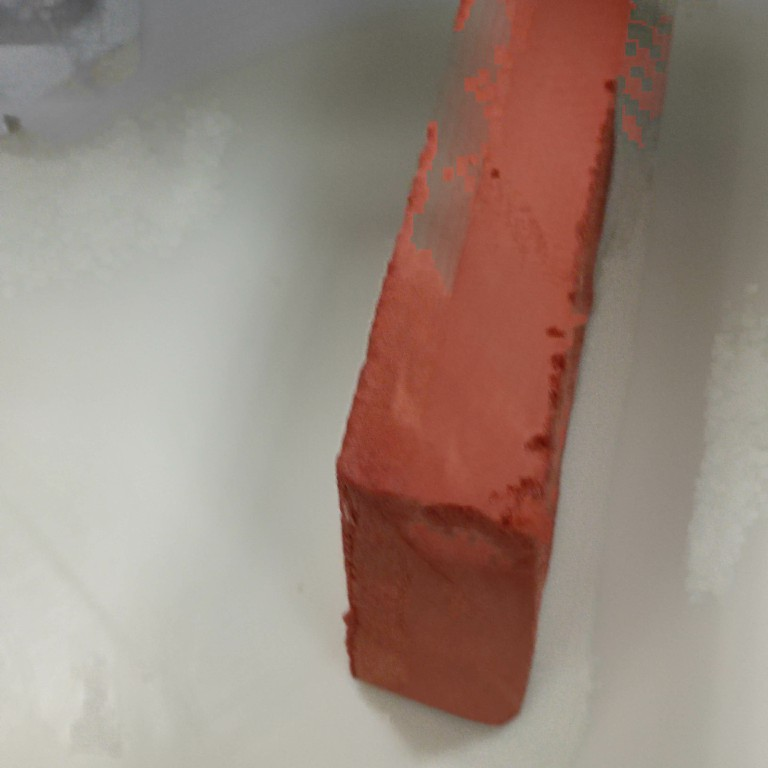brick: (332, 1, 678, 726)
